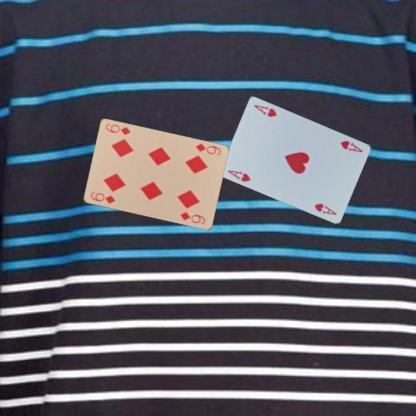6d: (193, 141, 222, 157), (88, 190, 116, 206)
Ah: (225, 167, 252, 183), (338, 138, 364, 154)
